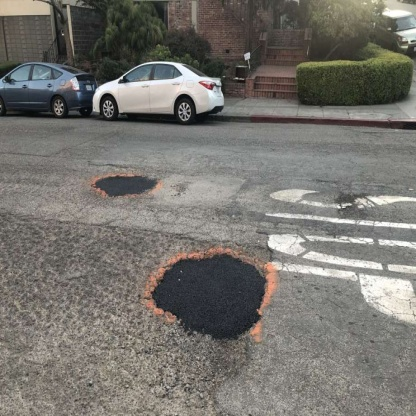pothole: (152, 242, 277, 344), (86, 162, 162, 209)
